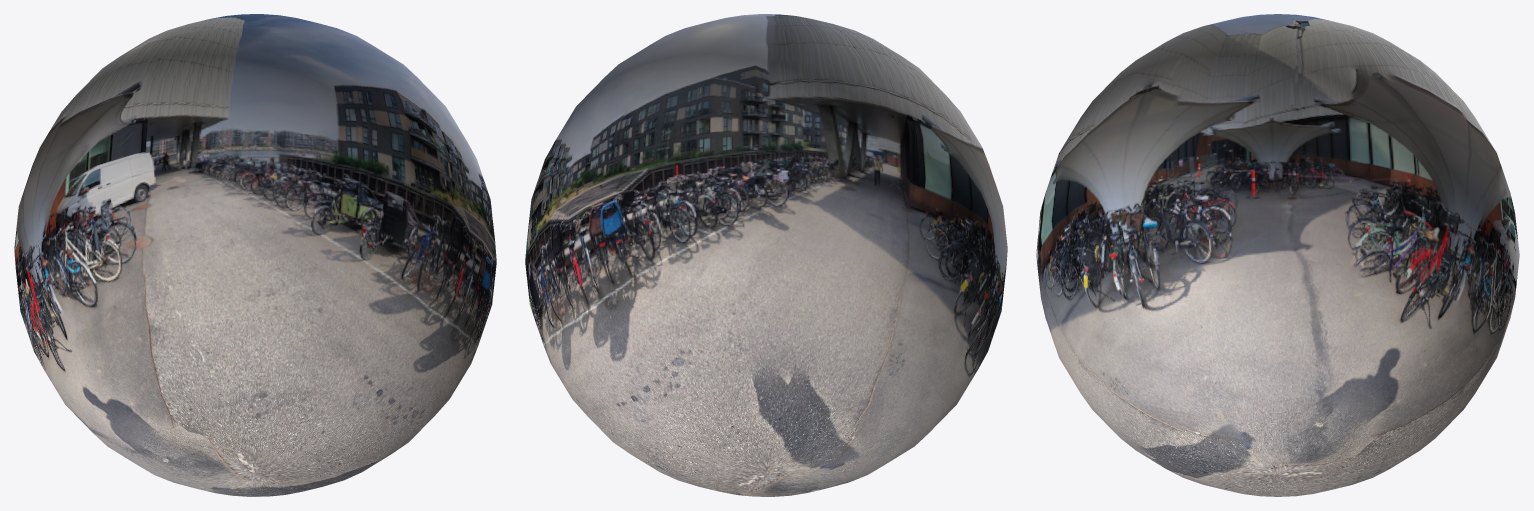
The model's file is UnrollSphere.glb.
3 views of the same model, side by side, from view 1: azimuth 30°, elevation 25°; view 2: azimuth 150°, elevation 25°; view 3: azimuth 270°, elevation 25° (orthographic).
Visible parts, largest first — view 1: Sphere; view 2: Sphere; view 3: Sphere.
Part boxes in pixels (x1,y1,x2,y2): Sphere: (14, 14, 496, 496); Sphere: (525, 14, 1007, 496); Sphere: (1036, 14, 1519, 496).
Bounding box in the file's own units: 2 × 2 × 2.
1 material, 1 textured.
